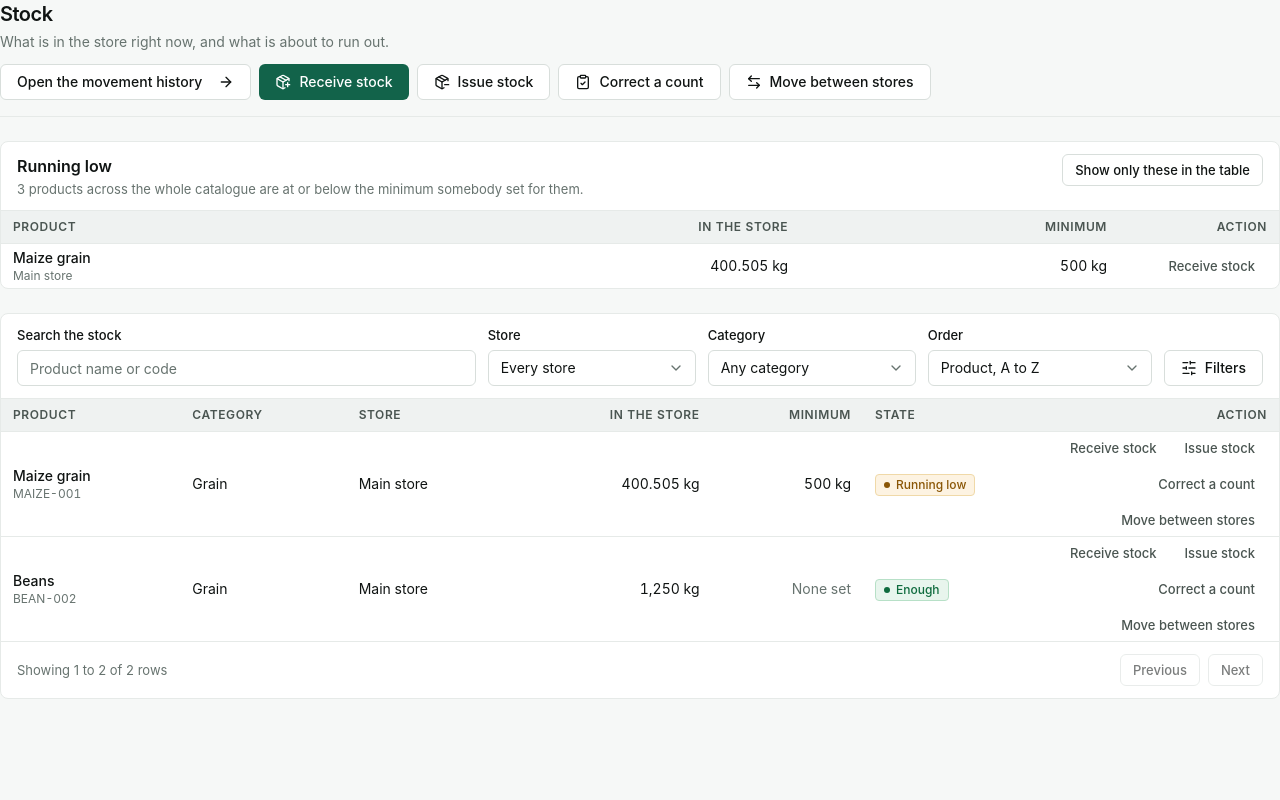
Test case: receiving stock › sends the quantity as a string, with the product and store the row already chose
Expected: the 1st text "400.505 kg" is shown, x1=710 y1=257 x2=788 y2=274
Click the 3rd button "Receive stock" at (1113, 448), box x1=1058 y1=432 x2=1169 y2=464
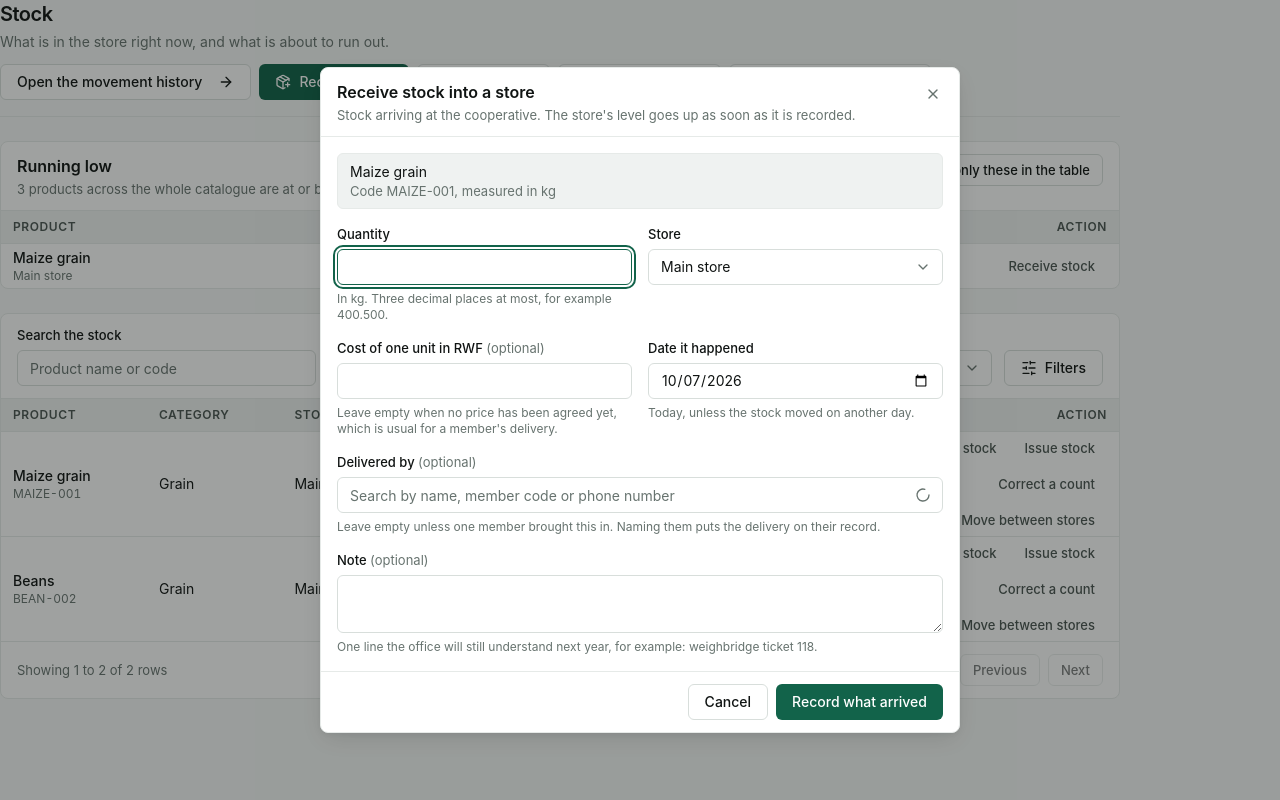
Result: the dialog is shown at x1=320 y1=67 x2=960 y2=733
Result: the text "Code MAIZE-001, measured in kg" is shown at x1=350 y1=183 x2=556 y2=199
Type "120.250" into the field labelled "Quantity" at (484, 267), box x1=337 y1=249 x2=632 y2=285
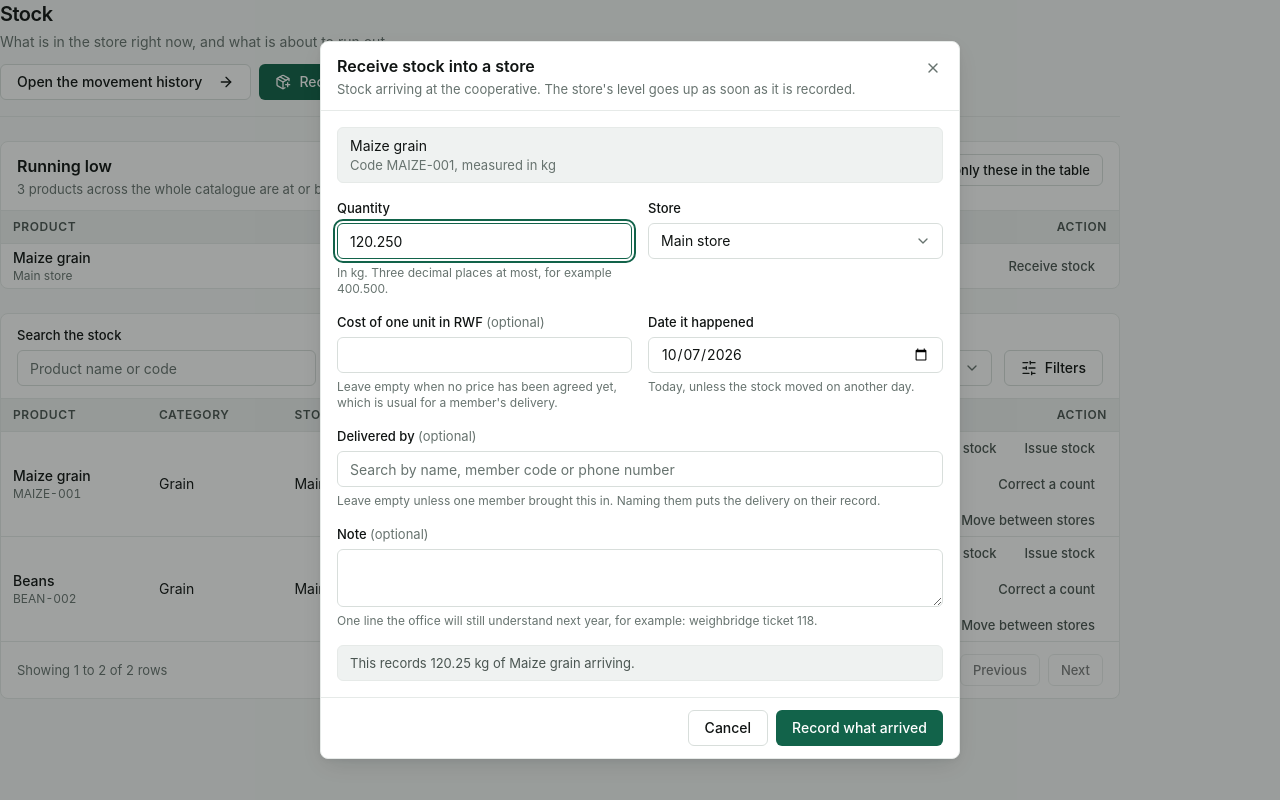
Submit the form with id "receive-stock-form", box x1=337 y1=127 x2=943 y2=681
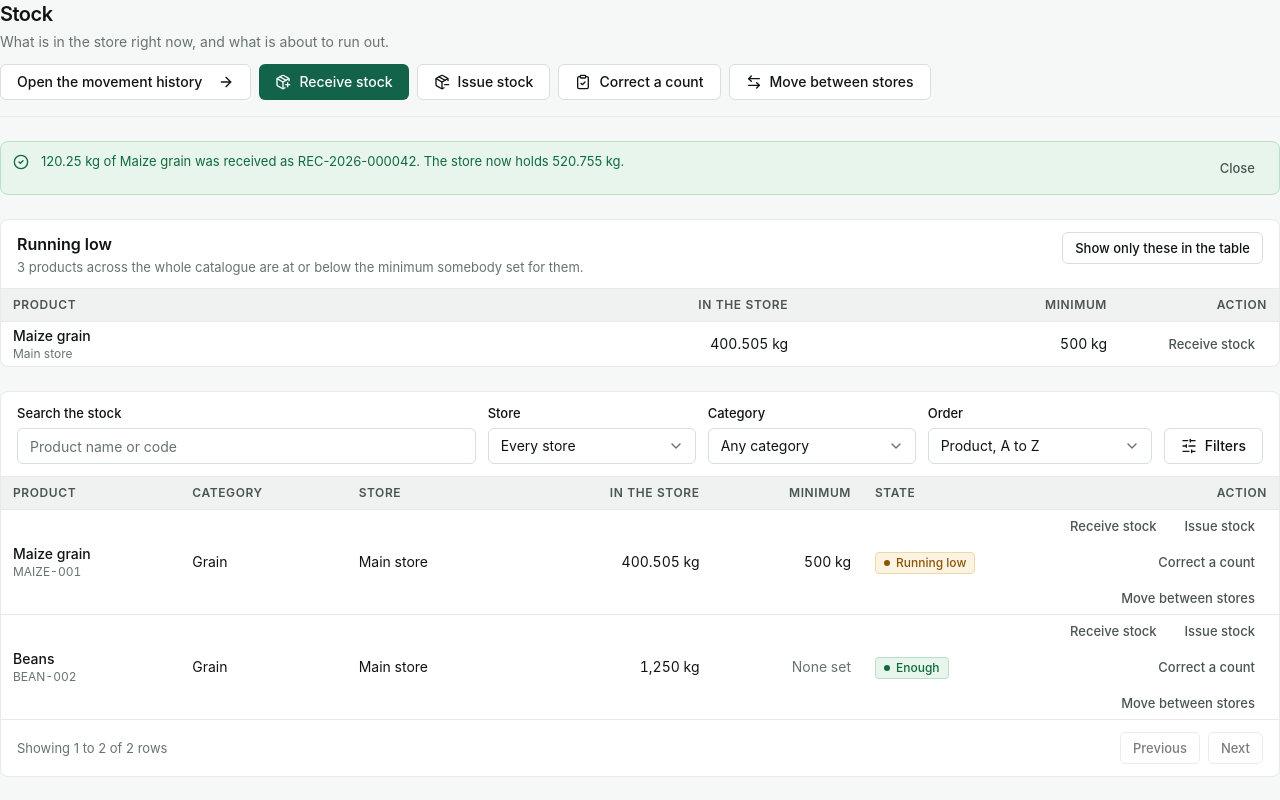
Result: the dialog is gone
Result: the text "120.25 kg of Maize grain was received as REC-2026-000042" is shown at x1=41 y1=153 x2=624 y2=169
